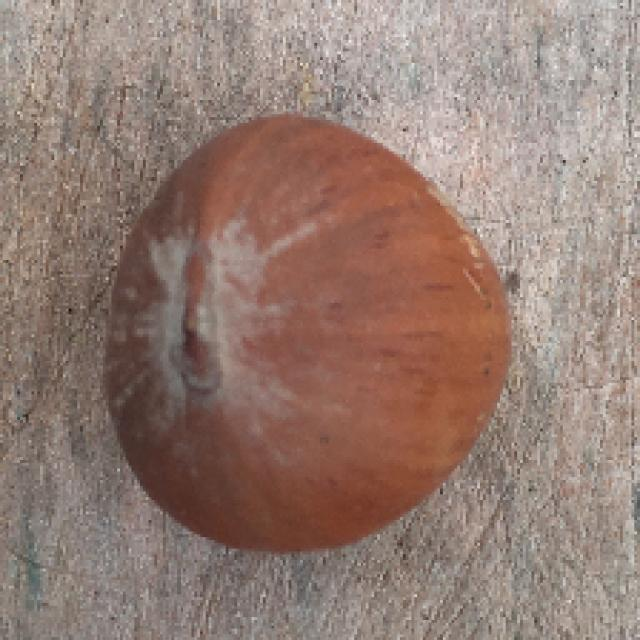DamagedHazelnut: (99, 114, 515, 553)
